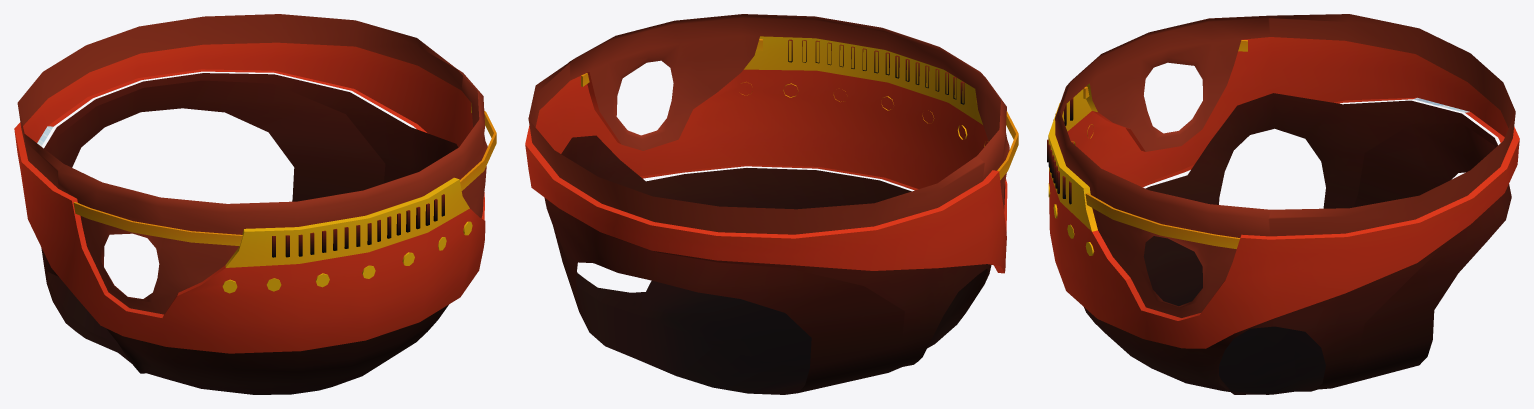
File: Cloth_Samurai.fbx
3 views of the same model, side by side, from view 1: azimuth 30°, elevation 25°; view 2: azimuth 150°, elevation 25°; view 3: azimuth 270°, elevation 25° (orthographic). The views are drawn at different scales.
Parts seen in each view (by area): view 1: Cloth_Samurai; view 2: Cloth_Samurai; view 3: Cloth_Samurai.
Boxes of the visible parts, x1,y1,x2,y2 form: Cloth_Samurai: (14,14,496,394); Cloth_Samurai: (525,14,1018,394); Cloth_Samurai: (1047,14,1519,394).
Size of the model in its own units: 134 by 74.37 by 130.
